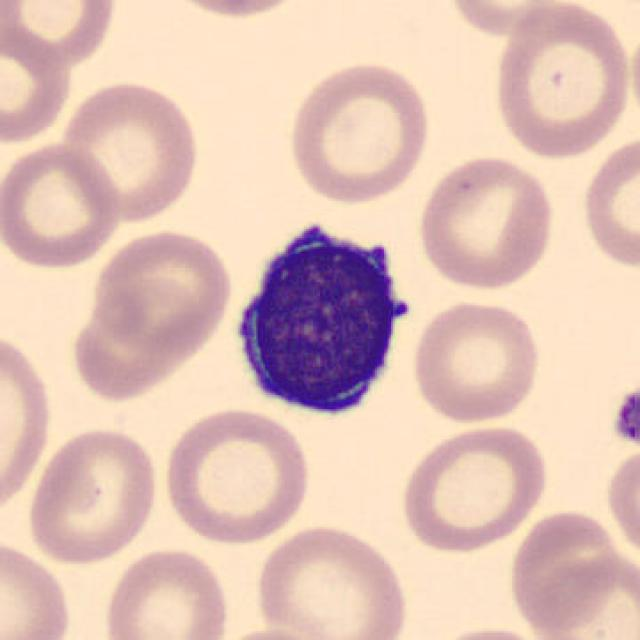Lymphocyte: (222, 210, 423, 426)
Platelets: (608, 382, 640, 452)
RBC: (493, 0, 637, 160), (282, 56, 433, 206), (158, 404, 313, 546), (57, 76, 203, 224), (396, 422, 553, 556), (414, 150, 558, 293), (23, 423, 162, 566), (65, 264, 211, 400), (87, 226, 237, 358), (250, 520, 410, 640), (407, 296, 544, 427), (0, 140, 126, 272), (506, 512, 634, 636), (99, 545, 233, 640), (0, 322, 55, 524), (0, 14, 76, 148), (578, 130, 640, 274), (0, 0, 121, 72), (0, 534, 75, 640), (441, 0, 576, 39), (602, 441, 640, 566), (151, 0, 317, 21), (421, 622, 553, 640)
